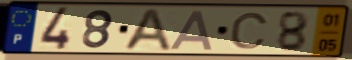4: (37, 5, 73, 52)
8: (275, 10, 312, 53), (81, 8, 114, 50)
A: (120, 7, 175, 53), (168, 9, 216, 52)
C: (228, 11, 271, 51)
